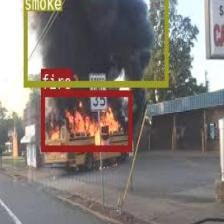fire: (41, 90, 132, 151)
smoke: (23, 0, 168, 86)
